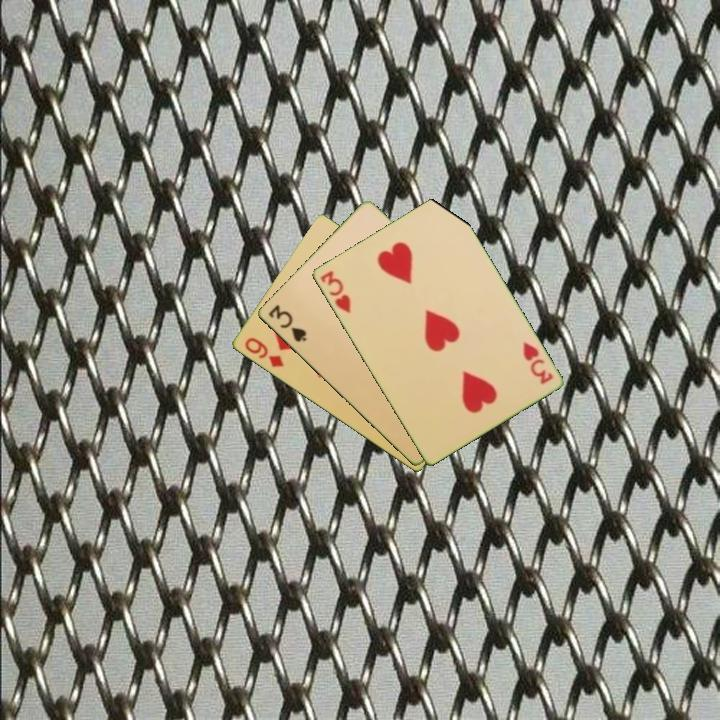3h: (316, 267, 353, 316), (519, 338, 556, 387)
3s: (265, 301, 310, 345)
9d: (241, 334, 287, 370)
